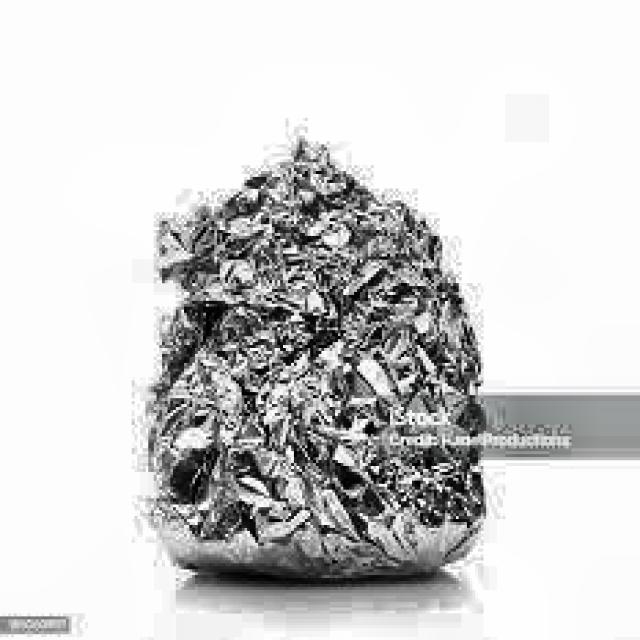Foil: (136, 137, 496, 595)
